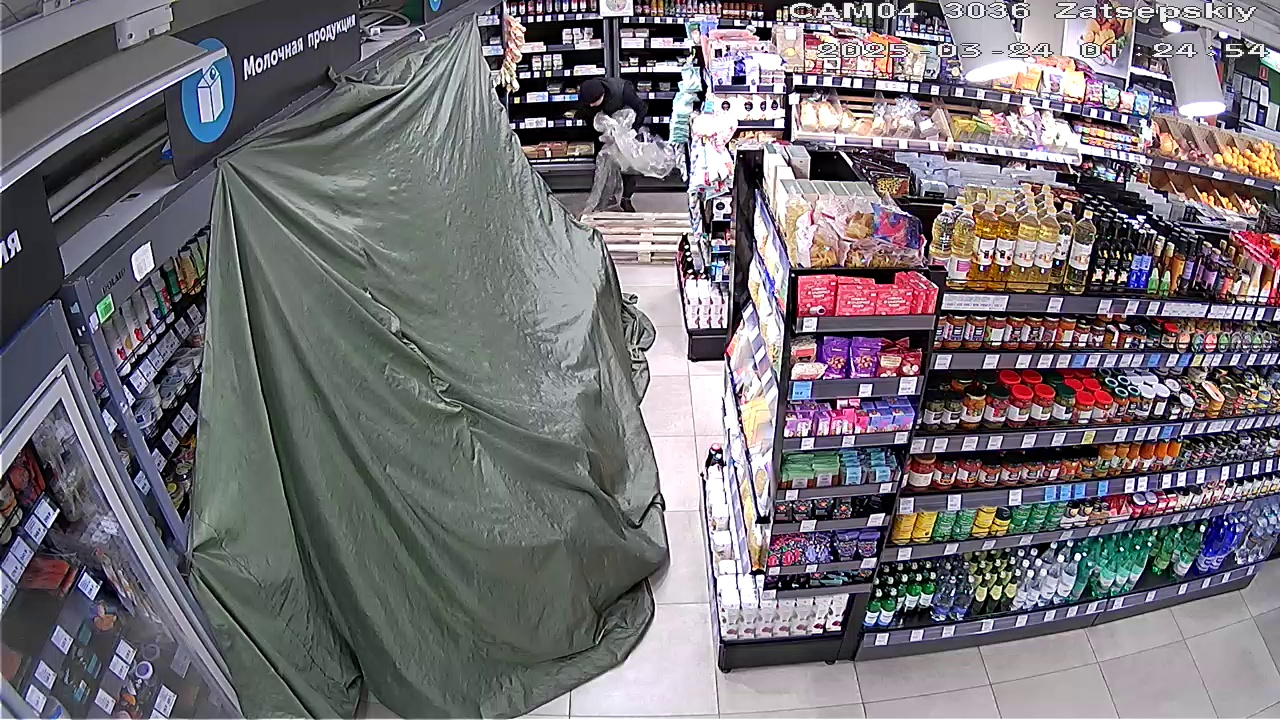Human: (561, 73, 673, 202)
dome: (194, 25, 662, 710)
pallet: (585, 212, 699, 260)
